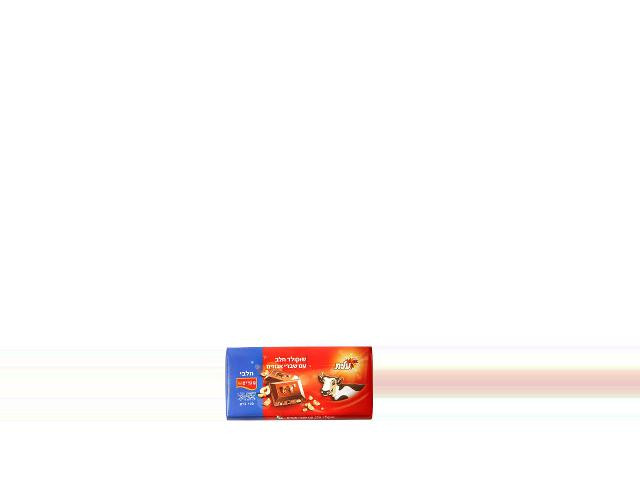chocolate: (227, 347, 372, 426)
